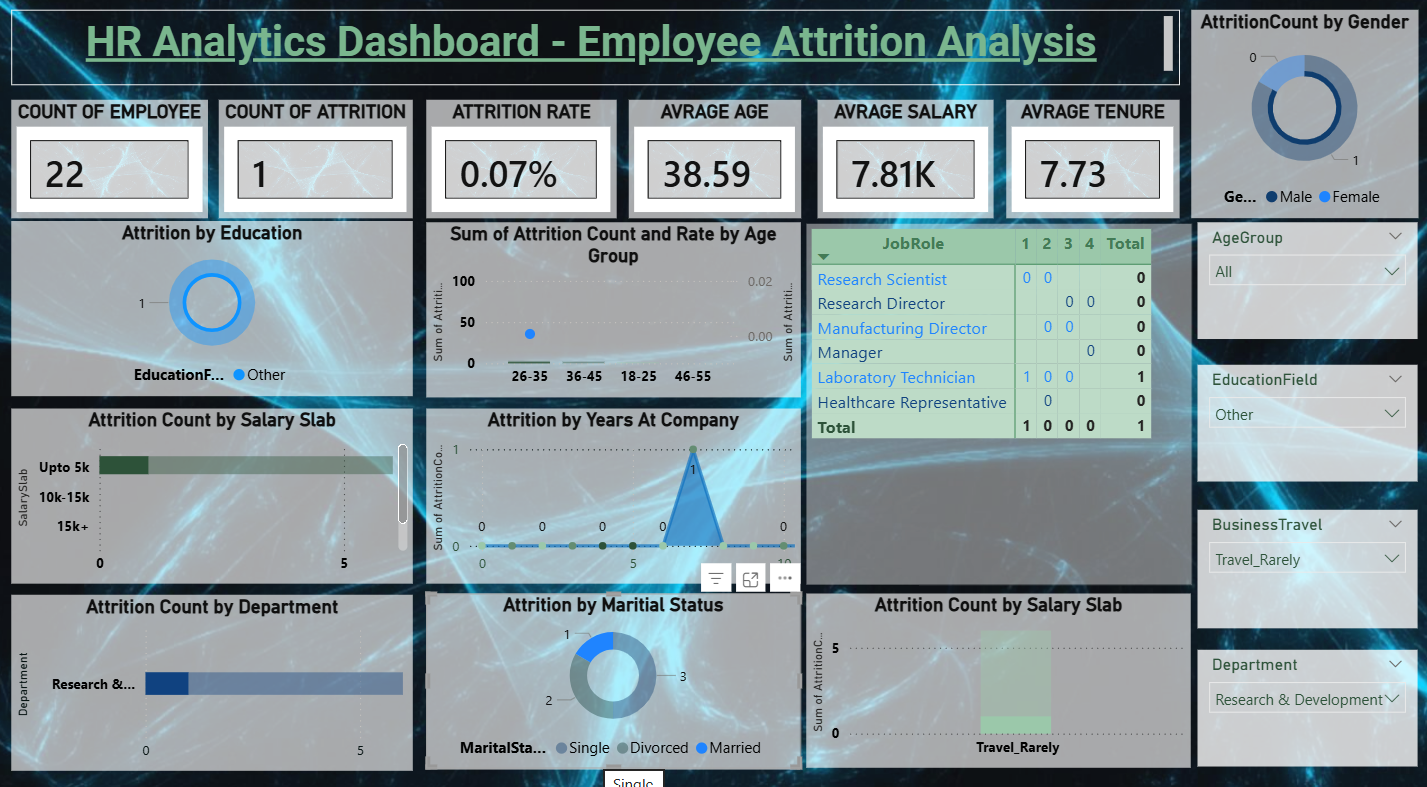

Layout of this report page (visuals, bound fields, positions):
{"tool":"powerbi","page":{"name":"Page 1","canvas":[1280,720],"ordinal":0},"visuals":[{"type":"cardVisual","title":"COUNT OF EMPLOYEE","fields":{"Data":["CountNonNull(HR_Analytics.EmployeeCount)"]},"box":[14.2,96.6,175.1,105.6],"z":0},{"type":"textbox","box":[14.2,16.7,1040.5,67],"z":1000},{"type":"cardVisual","title":"COUNT OF ATTRITION","fields":{"Data":["Sum(HR_Analytics.AttritionCount)1"]},"box":[199.6,96.6,172.6,105.6],"z":2000},{"type":"cardVisual","title":"ATTRITION RATE","fields":{"Data":["Sum(HR_Analytics.AttritionRate)"]},"box":[383.7,96.6,170,105.6],"z":3000},{"type":"cardVisual","title":"AVRAGE AGE","fields":{"Data":["Avg(HR_Analytics.Age)"]},"box":[564,96.6,153.2,105.6],"z":4000},{"type":"cardVisual","title":"AVRAGE SALARY","fields":{"Data":["Avg(HR_Analytics.MonthlyIncome)"]},"box":[732.7,96.6,157.1,105.6],"z":5000},{"type":"cardVisual","title":"AVRAGE TENURE","fields":{"Data":["Avg(HR_Analytics.YearsAtCompany)"]},"box":[900.1,96.6,154.5,105.6],"z":6000},{"type":"donutChart","title":"AttritionCount by Gender","fields":{"Category":["HR_Analytics.Gender"],"Y":["Sum(HR_Analytics.AttritionCount)"]},"box":[1064.9,16.7,202.2,185.4],"z":7000},{"type":"donutChart","title":"Attrition by Education","fields":{"Category":["HR_Analytics.EducationField","HR_Analytics.YearsAtCompany"],"Y":["Sum(HR_Analytics.AttritionCount)"]},"box":[14.2,204.7,358,155.8],"z":8000},{"type":"lineStackedColumnComboChart","title":"Sum of Attrition Count and Rate by Age Group","fields":{"Category":["HR_Analytics.AgeGroup"],"Y":["Sum(HR_Analytics.AttritionCount)"],"Y2":["Sum(HR_Analytics.Attrition Rate)"]},"box":[383.7,206,333.5,155.8],"z":9000},{"type":"pivotTable","fields":{"Rows":["HR_Analytics.JobRole"],"Columns":["HR_Analytics.JobLevel"],"Values":["Sum(HR_Analytics.AttritionCount)"]},"box":[722,206.6,342.9,322],"z":10000},{"type":"barChart","title":"Attrition Count by Salary Slab","fields":{"Y":["Sum(HR_Analytics.AttritionCount)"],"Category":["HR_Analytics.SalarySlab"]},"box":[14.2,372.2,358,155.8],"z":11000},{"type":"areaChart","title":"Attrition by Years At Company","fields":{"Category":["HR_Analytics.YearsAtCompany"],"Y":["Sum(HR_Analytics.AttritionCount)"]},"box":[383.7,372.2,333.5,155.8],"z":12000},{"type":"barChart","title":"Attrition Count by Department","fields":{"Y":["Sum(HR_Analytics.AttritionCount)"],"Category":["HR_Analytics.Department"]},"box":[13.9,537.7,358,156.5],"z":13000},{"type":"donutChart","title":"Attrition by Maritial Status","fields":{"Y":["Sum(HR_Analytics.AttritionCount)"],"Category":["HR_Analytics.MaritalStatus"]},"box":[384.3,536.2,333.2,156.5],"z":14000},{"type":"columnChart","title":"Attrition Count by Salary Slab","fields":{"Y":["Sum(HR_Analytics.AttritionCount)"],"Category":["HR_Analytics.BusinessTravel"]},"box":[722.1,536.2,342.5,155],"z":15000},{"type":"slicer","fields":{"Values":["HR_Analytics.Department"]},"box":[1071.4,586.8,195.6,104.4],"z":16000},{"type":"slicer","fields":{"Values":["HR_Analytics.BusinessTravel"]},"box":[1071.4,461.5,195.6,105.5],"z":17000},{"type":"slicer","fields":{"Values":["HR_Analytics.AgeGroup"]},"box":[1071.4,205.5,195.6,104.4],"z":18000},{"type":"slicer","fields":{"Values":["HR_Analytics.EducationField"]},"box":[1071.4,333,195.6,104.4],"z":19000}]}

Visuals, with their boxes in screenshot pixels (x1, y1, x2, y2), scaled from the page's 1280x720 canvas onto the 1427x787 screenshot:
"COUNT OF EMPLOYEE" cardVisual: select_region(16, 106, 211, 221)
textbox: select_region(16, 18, 1176, 91)
"COUNT OF ATTRITION" cardVisual: select_region(223, 106, 415, 221)
"ATTRITION RATE" cardVisual: select_region(428, 106, 617, 221)
"AVRAGE AGE" cardVisual: select_region(629, 106, 800, 221)
"AVRAGE SALARY" cardVisual: select_region(817, 106, 992, 221)
"AVRAGE TENURE" cardVisual: select_region(1003, 106, 1176, 221)
"AttritionCount by Gender" donutChart: select_region(1187, 18, 1413, 221)
"Attrition by Education" donutChart: select_region(16, 224, 415, 394)
"Sum of Attrition Count and Rate by Age Group" lineStackedColumnComboChart: select_region(428, 225, 800, 395)
pivotTable - HR_Analytics.JobRole x HR_Analytics.JobLevel: select_region(805, 226, 1187, 578)
"Attrition Count by Salary Slab" barChart: select_region(16, 407, 415, 577)
"Attrition by Years At Company" areaChart: select_region(428, 407, 800, 577)
"Attrition Count by Department" barChart: select_region(15, 588, 415, 759)
"Attrition by Maritial Status" donutChart: select_region(428, 586, 800, 757)
"Attrition Count by Salary Slab" columnChart: select_region(805, 586, 1187, 756)
slicer - HR_Analytics.Department: select_region(1194, 641, 1413, 756)
slicer - HR_Analytics.BusinessTravel: select_region(1194, 504, 1413, 620)
slicer - HR_Analytics.AgeGroup: select_region(1194, 225, 1413, 339)
slicer - HR_Analytics.EducationField: select_region(1194, 364, 1413, 478)
